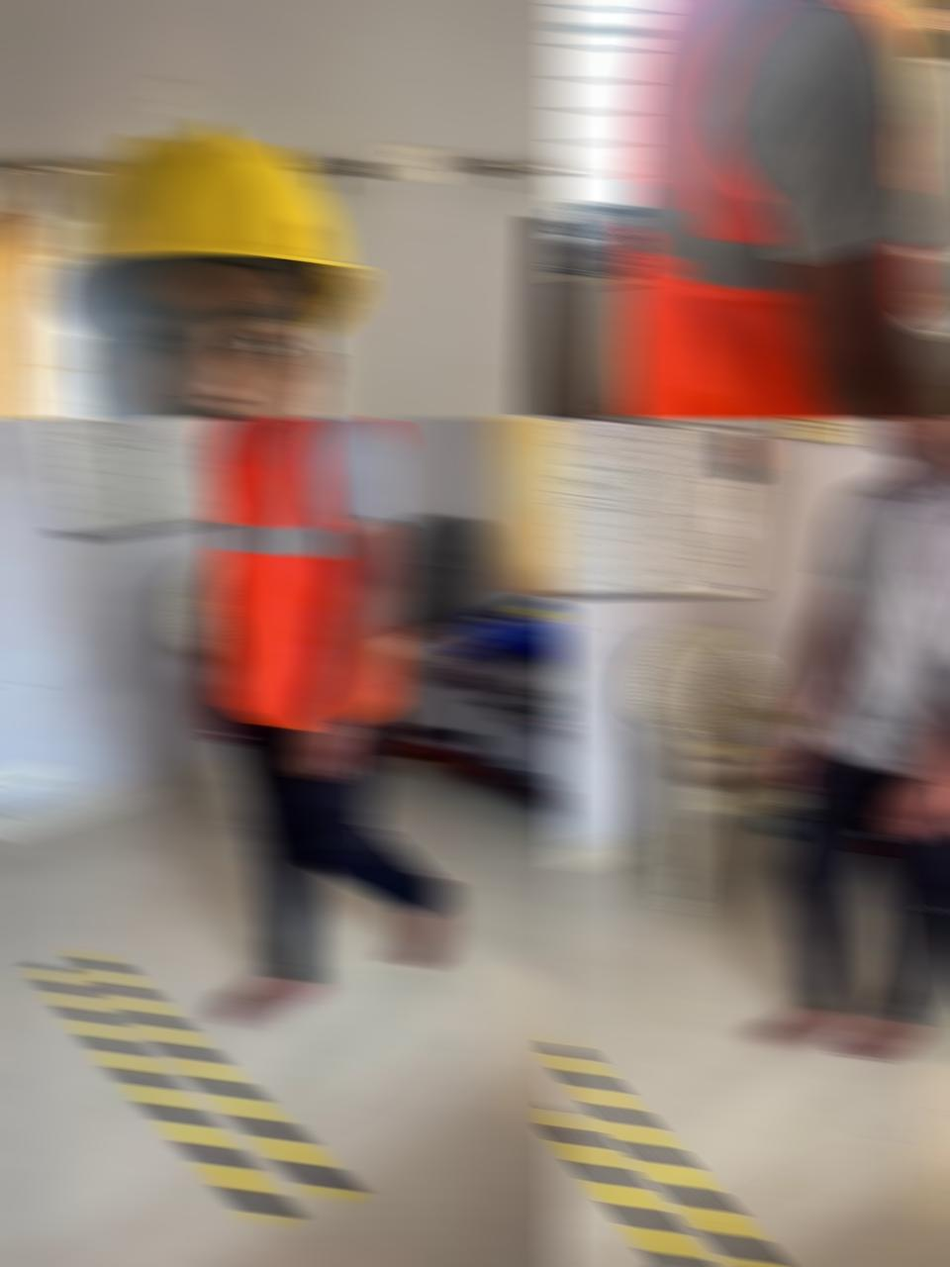BorderLine: (30, 945, 359, 1228), (551, 1003, 784, 1267)
Helmet: (43, 120, 369, 336)
No_Helmet: (875, 417, 950, 463)
No_Vest: (810, 441, 950, 782)
Person: (0, 120, 568, 419), (195, 417, 457, 1027), (618, 0, 950, 419), (745, 417, 950, 1061)
Vest: (621, 0, 927, 419), (204, 417, 403, 730)
